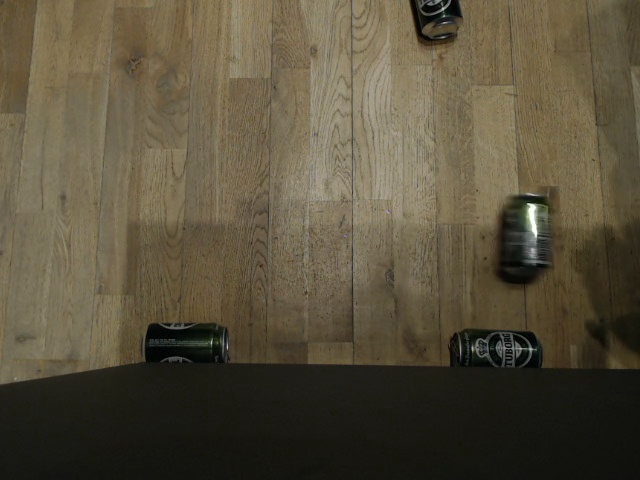beer: (498, 191, 553, 277), (140, 319, 232, 366), (448, 328, 545, 367), (409, 0, 462, 40)
